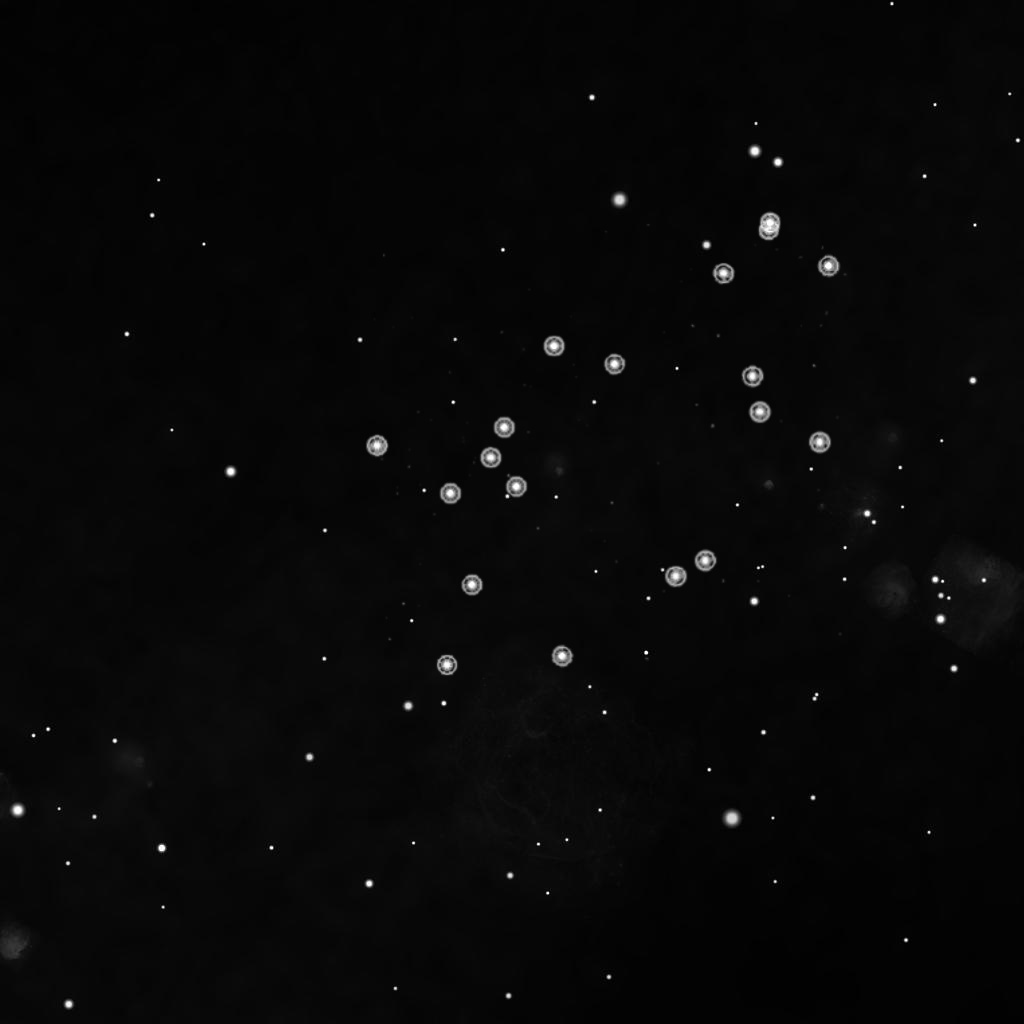canis_major: (429, 330, 632, 514)
